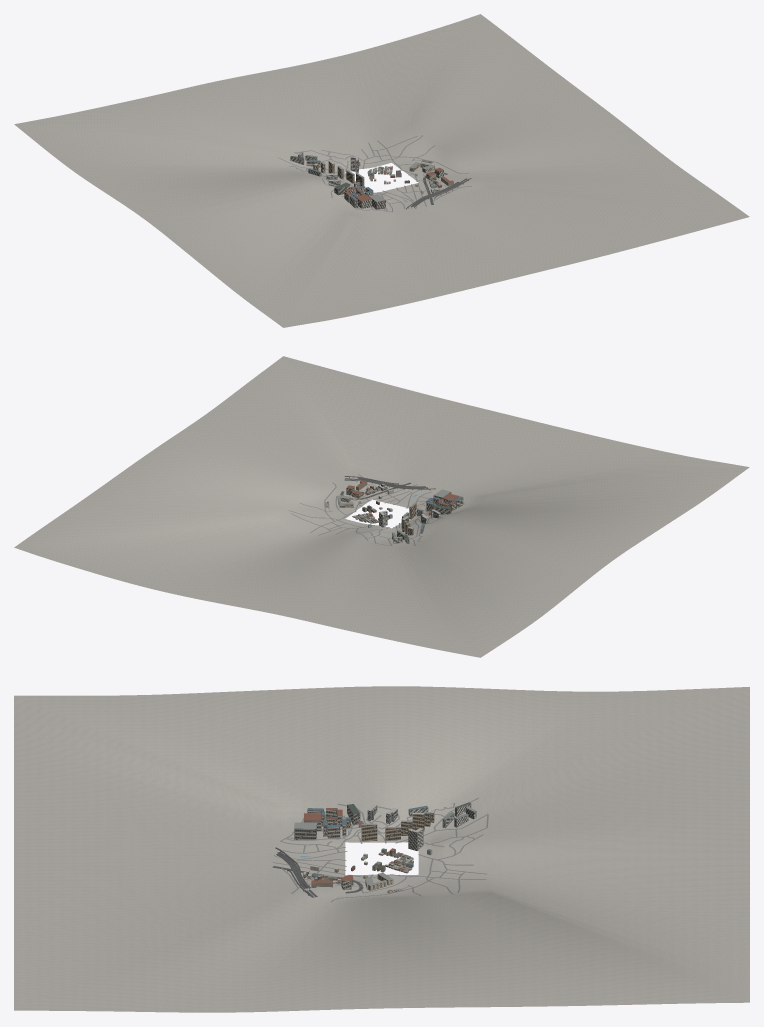
The picture shows the model from 3 angles, top to bottom: view 1: azimuth 30°, elevation 25°; view 2: azimuth 150°, elevation 25°; view 3: azimuth 270°, elevation 25°; orthographic projection. The views are drawn at different scales.
Visible parts, largest first — view 1: ctx-ground, ctx-buildings, ctx-streets; view 2: ctx-ground, ctx-buildings, ctx-streets; view 3: ctx-ground, ctx-buildings, ctx-streets.
Boxes of the visible parts, box(x1,y1,x2,y2) form: ctx-ground: box(14, 14, 749, 327); ctx-buildings: box(290, 151, 453, 209); ctx-streets: box(278, 135, 471, 211); ctx-ground: box(14, 356, 749, 657); ctx-buildings: box(325, 480, 463, 543); ctx-streets: box(288, 474, 465, 545); ctx-ground: box(14, 686, 749, 1012); ctx-buildings: box(294, 802, 476, 893); ctx-streets: box(273, 797, 488, 901).
Bounding box in the file's own units: 2400 × 78.7 × 2400.
Materials: 17 (14 with a texture image).
